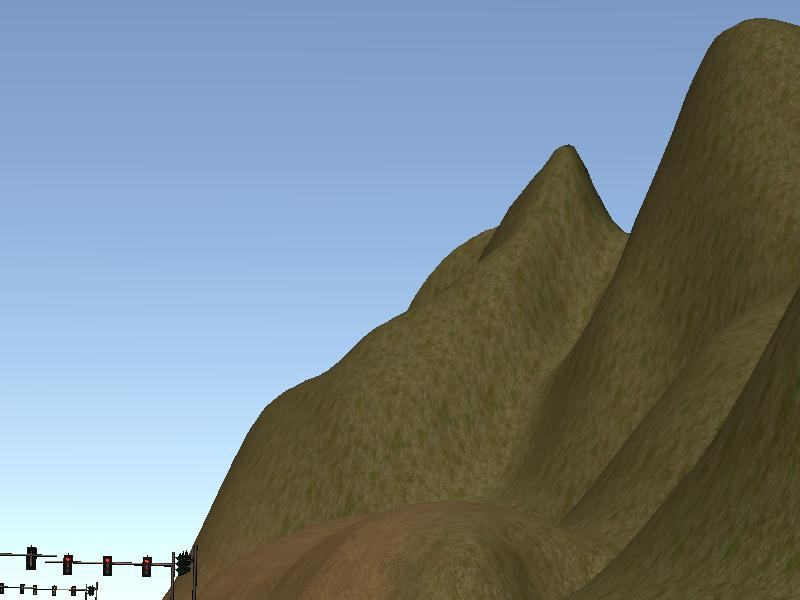Red: (62, 554, 73, 577), (101, 554, 112, 577), (140, 555, 151, 578)
